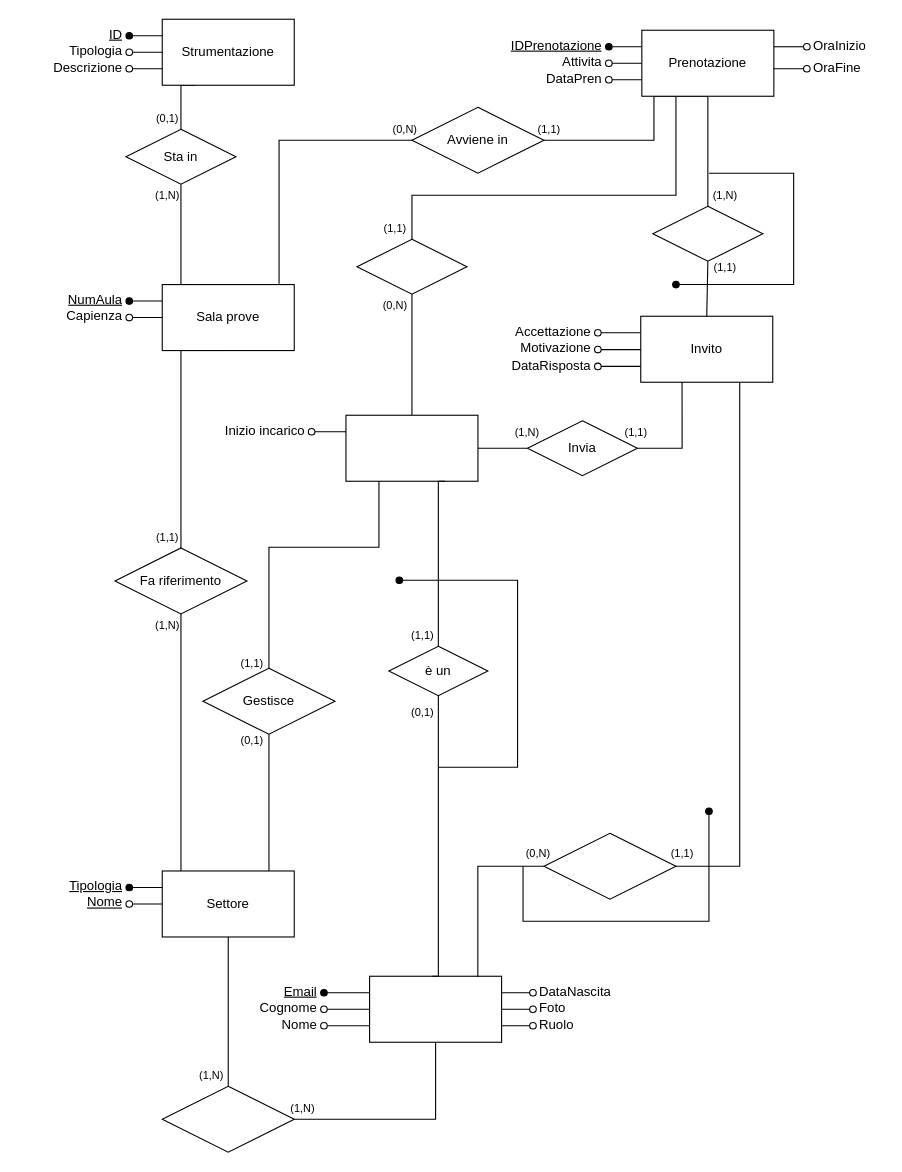
The diagram is 902 pixels wide and 1172 high, and some of its shapes have lost their labels. The box of each missing label's shape, as (x1, y1, x2, y2) in pixels:
Crea: (356, 238, 467, 294)
Iscritto: (369, 975, 502, 1042)
Iscritto a: (161, 1085, 294, 1152)
Per: (652, 205, 763, 261)
Responsabile: (345, 414, 478, 481)
Riceve: (543, 832, 676, 899)
